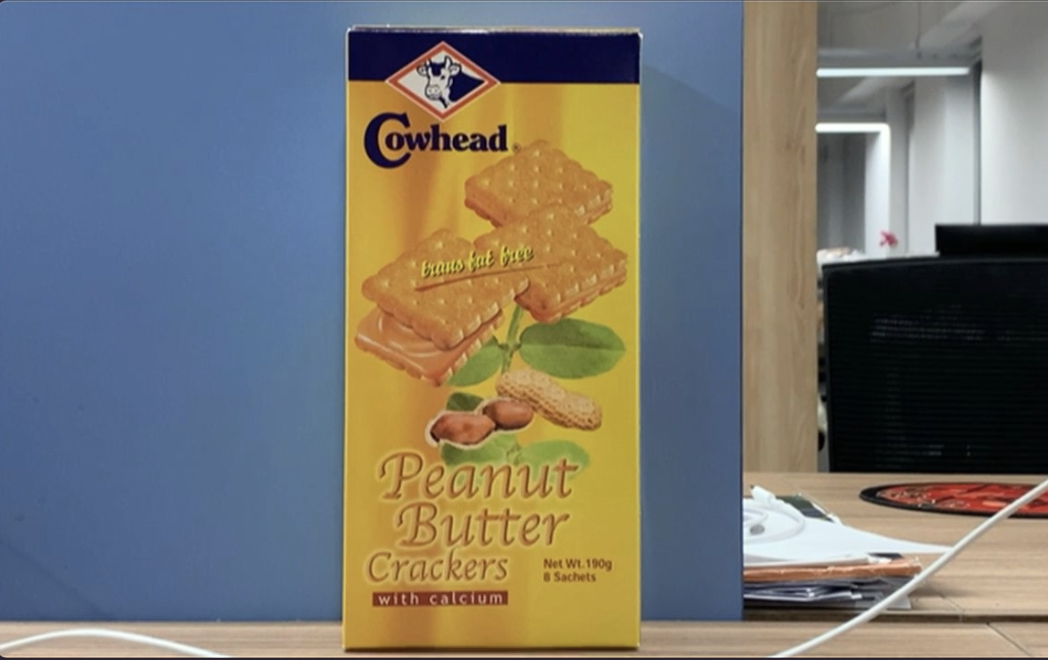crackers_100g-199g: (359, 50, 627, 621)
